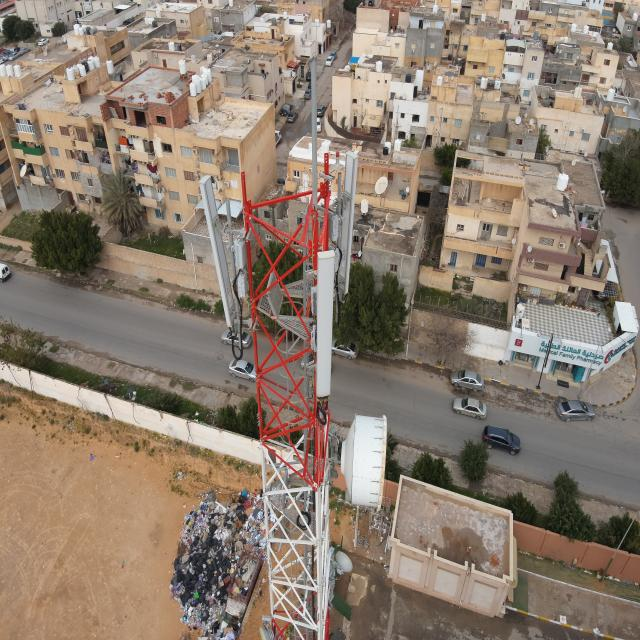Ground Based: (196, 55, 398, 640)
